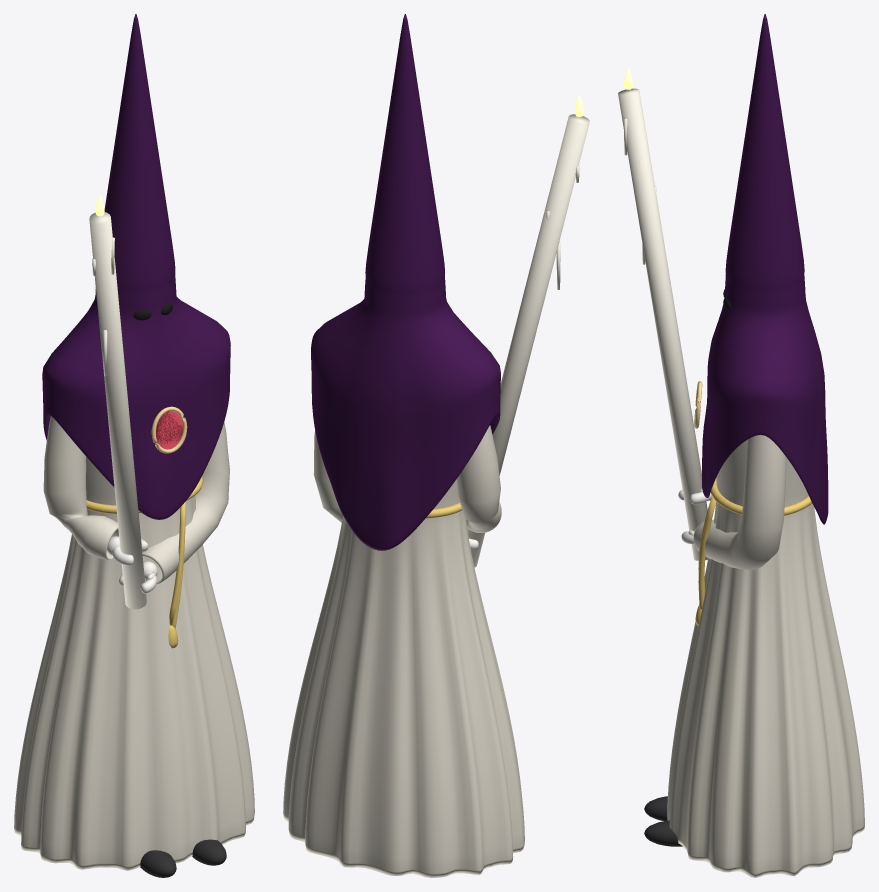
The model's file is nazareno_realista_espejo.glb.
3 views of the same model, side by side, from view 1: azimuth 30°, elevation 25°; view 2: azimuth 150°, elevation 25°; view 3: azimuth 270°, elevation 25° (orthographic).
Visible parts, largest first — view 1: tunica, capirote, cirio, brazo_d, brazo_i, escudo, zapato.001, zapato, cordon.001, escudo_borde; view 2: tunica, capirote, cirio, brazo_d, brazo_i; view 3: tunica, capirote, cirio, brazo_i, cingulo, zapato, cordon.
Part boxes in pixels (left/top/right/bottom): tunica: left=14, top=457, right=254, bottom=870; capirote: left=42, top=14, right=230, bottom=519; cirio: left=89, top=212, right=146, bottom=609; brazo_d: left=43, top=416, right=118, bottom=559; brazo_i: left=142, top=422, right=229, bottom=583; escudo: left=156, top=411, right=182, bottom=449; zapato.001: left=140, top=850, right=176, bottom=877; zapato: left=192, top=839, right=226, bottom=865; cordon.001: left=169, top=501, right=185, bottom=625; escudo_borde: left=151, top=406, right=187, bottom=453; tunica: left=283, top=479, right=524, bottom=877; capirote: left=311, top=14, right=500, bottom=550; cirio: left=467, top=114, right=589, bottom=567; brazo_d: left=456, top=425, right=501, bottom=532; brazo_i: left=313, top=430, right=342, bottom=522; tunica: left=667, top=440, right=864, bottom=877; capirote: left=702, top=14, right=828, bottom=524; cirio: left=618, top=88, right=707, bottom=560; brazo_i: left=693, top=435, right=786, bottom=569; cingulo: left=710, top=478, right=811, bottom=515; zapato: left=644, top=820, right=682, bottom=846; cordon: left=698, top=497, right=716, bottom=609.
Bounding box in the file's own units: 0.7131 × 2.5 × 0.6835.
